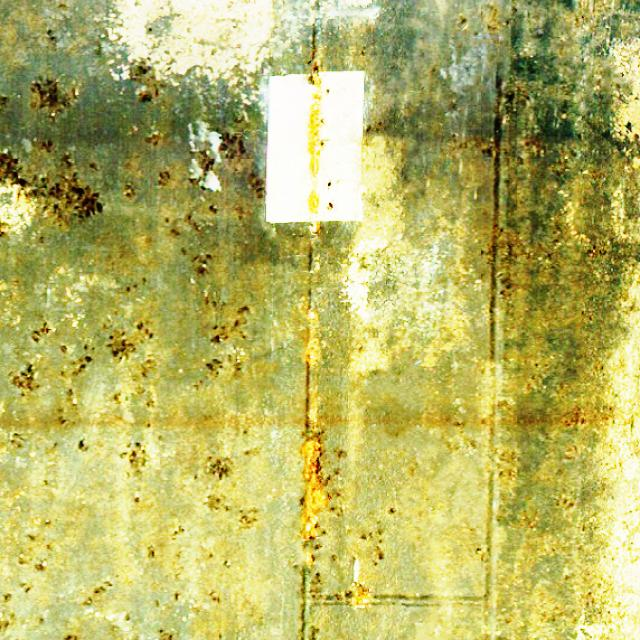Corrosion: (301, 438, 327, 541), (308, 95, 325, 178), (353, 591, 369, 610), (312, 60, 322, 87), (308, 190, 319, 214), (305, 352, 319, 364), (305, 550, 315, 566), (307, 409, 317, 424), (310, 221, 320, 234), (308, 312, 319, 321)
